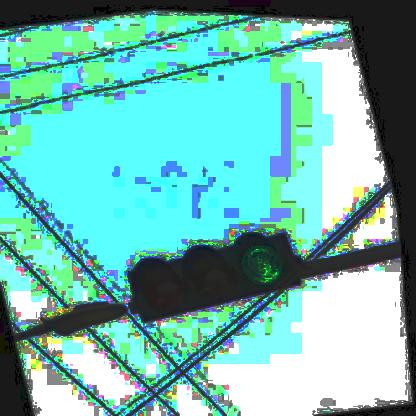Traffic Light -Green-: (120, 220, 311, 330)
